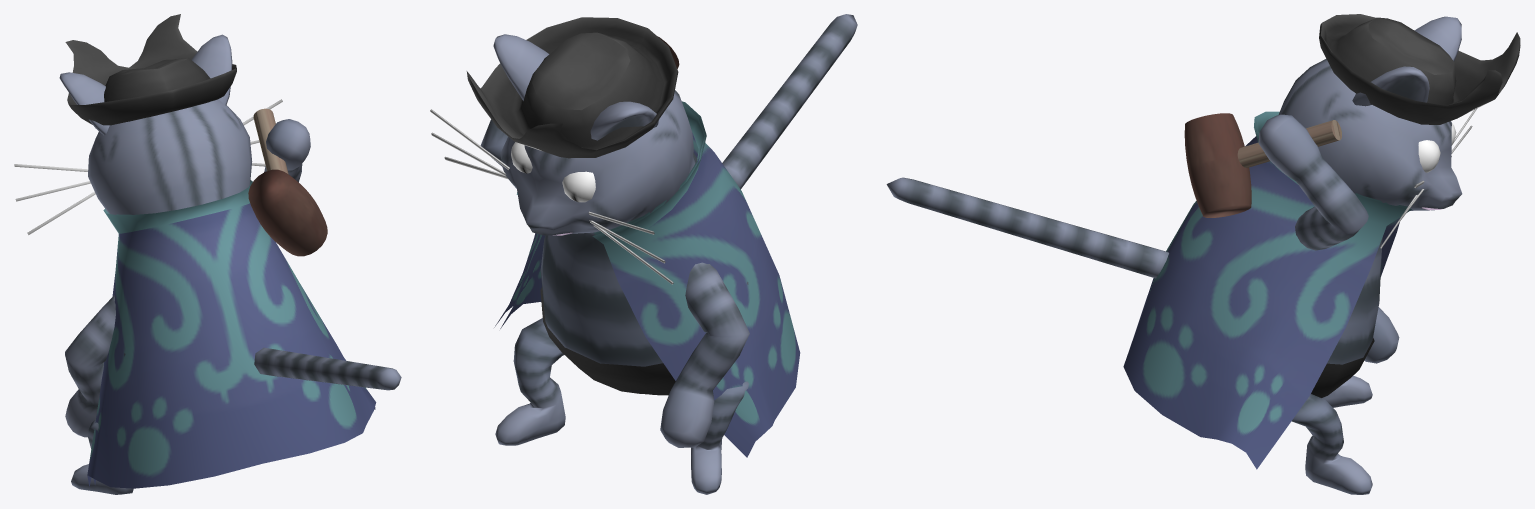
The model's file is neko_fix_01.fbx.
3 views of the same model, side by side, from view 1: azimuth 30°, elevation 25°; view 2: azimuth 150°, elevation 25°; view 3: azimuth 270°, elevation 25° (orthographic). The views are drawn at different scales.
Visible parts, largest first — view 1: F_01; view 2: F_01; view 3: F_01.
Part boxes in pixels (box(x1,y1,x2,y2)): F_01: box(14, 14, 401, 494); F_01: box(430, 14, 857, 494); F_01: box(886, 14, 1520, 494).
Size of the model in its own units: 1.09 by 1.53 by 2.09.
Materials: 1 (1 with a texture image).
